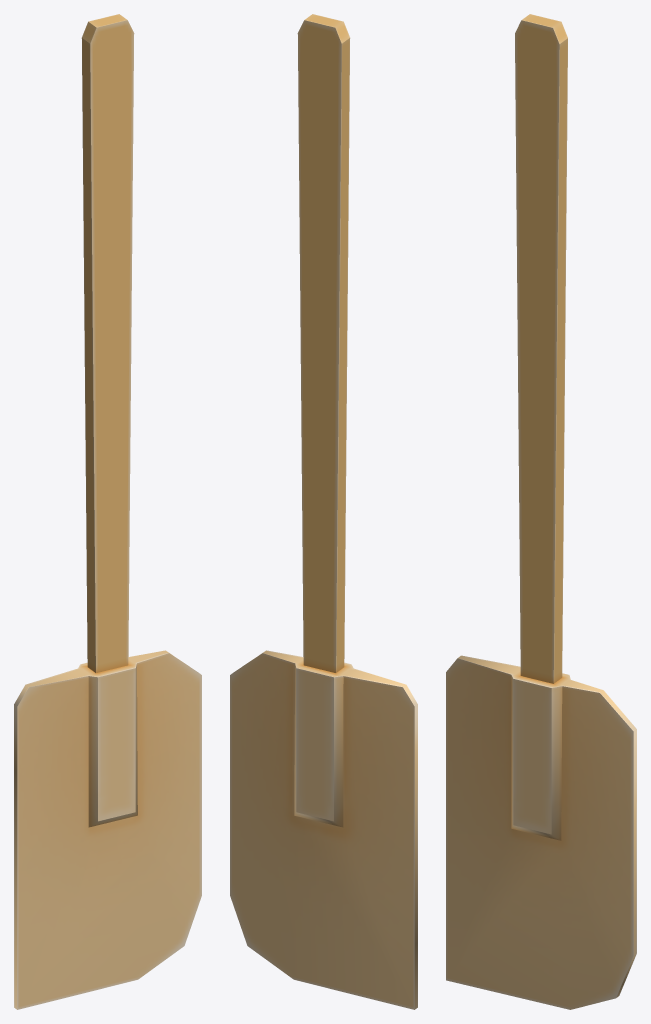
File: KR_A_spatula_01_01.fbx
The picture shows the model from 3 angles, left to right: view 1: azimuth 30°, elevation 25°; view 2: azimuth 150°, elevation 25°; view 3: azimuth 330°, elevation 25°; orthographic projection.
Parts seen in each view (by area): view 1: kr_a_spatula_01_01; view 2: kr_a_spatula_01_01; view 3: kr_a_spatula_01_01.
Boxes of the visible parts, bbox=[...] form: kr_a_spatula_01_01: bbox=[14, 14, 201, 1009]; kr_a_spatula_01_01: bbox=[230, 14, 417, 1009]; kr_a_spatula_01_01: bbox=[446, 14, 636, 1009].
Size of the model in its own units: 6 by 30 by 1.
